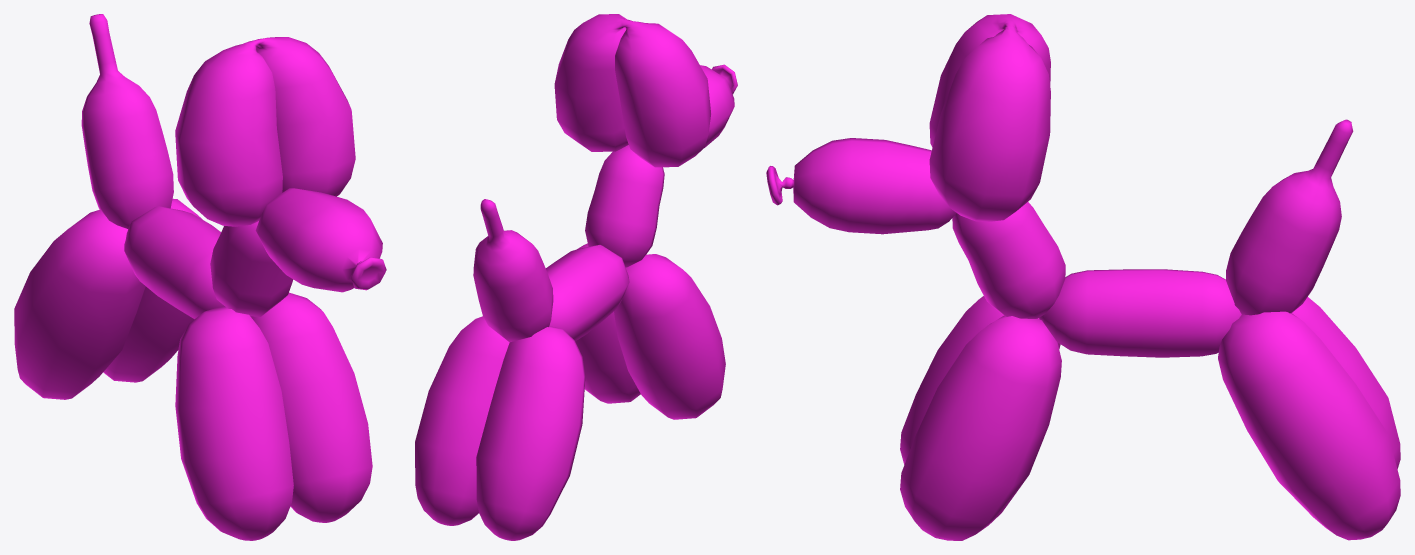
Rendered from magenta.glb.
The picture shows the model from 3 angles, left to right: view 1: azimuth 30°, elevation 25°; view 2: azimuth 150°, elevation 25°; view 3: azimuth 270°, elevation 25°; orthographic projection. The views are drawn at different scales.
Parts seen in each view (by area): view 1: Sphere.004; view 2: Sphere.004; view 3: Sphere.004.
Part boxes in pixels (bbox=[...]): Sphere.004: bbox=[14, 14, 386, 540]; Sphere.004: bbox=[415, 14, 737, 540]; Sphere.004: bbox=[766, 14, 1400, 540].
Bounding box in the file's own units: 1.24 × 3.12 × 3.63.
